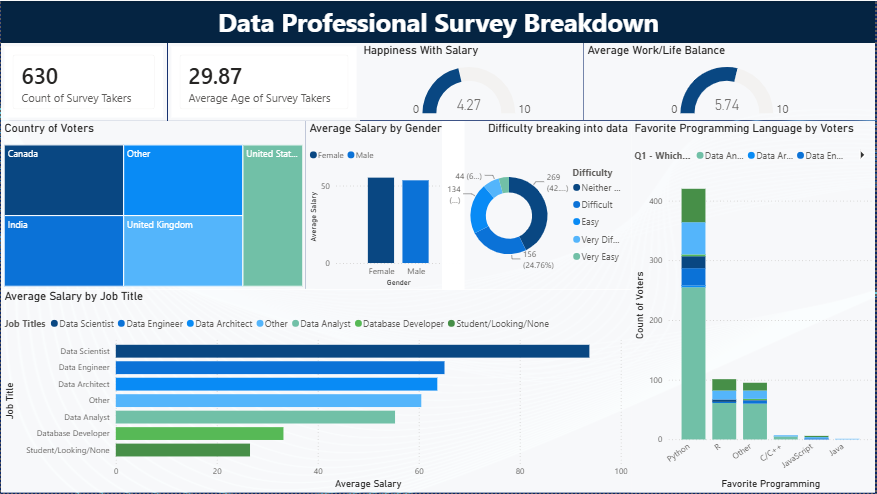

What the dashboard file says about the page in this screenshot:
{"tool":"powerbi","page":{"name":"Page 1","canvas":[1280,720],"ordinal":0},"visuals":[{"type":"textbox","box":[0,0,1280,62.1],"z":0},{"type":"cardVisual","fields":{"Data":["CountNonNull(Data Professional Survey.Unique ID)"]},"box":[0,61.5,242.9,114.1],"z":1000},{"type":"cardVisual","fields":{"Data":["Avg(Data Professional Survey.Q10 - Current Age)"]},"box":[244.3,61.4,281.4,114.3],"z":2000},{"type":"barChart","title":"Average Salary by Job Title","fields":{"Category":["Data Professional Survey.Q1 - Which Title Best Fits your Current Role?.1"],"Series":["Data Professional Survey.Q1 - Which Title Best Fits your Current Role?.1"],"Y":["Avg(Data Professional Survey.Average Salary)"]},"box":[0,421.8,922,297.5],"z":3000},{"type":"columnChart","title":"Favorite Programming Language by Voters ","fields":{"Category":["Data Professional Survey.Q5 - Favorite Programming Language.1"],"Series":["Data Professional Survey.Q1 - Which Title Best Fits your Current Role?.1"],"Y":["CountNonNull(Data Professional Survey.Unique ID)"]},"box":[922,174.9,358,544.4],"z":4000},{"type":"treemap","title":"Country of Voters","fields":{"Group":["Data Professional Survey.Q11 - Which Country do you live in?.1"],"Values":["Count(Data Professional Survey.Q11 - Which Country do you live in?.1)"]},"box":[0,174.9,446.3,246.8],"z":5000},{"type":"gauge","title":"Average Work/Life Balance","fields":{"MaxValue":["Max(Data Professional Survey.Q6 - How Happy are you in your Current Position with the following? (Work/Life Balance))2"],"MinValue":["Min(Data Professional Survey.Q6 - How Happy are you in your Current Position with the following? (Work/Life Balance))1"],"Y":["Avg(Data Professional Survey.Q6 - How Happy are you in your Current Position with the following? (Work/Life Balance))"]},"box":[853.3,62.1,426.7,112.8],"z":6000},{"type":"gauge","title":"Happiness With Salary","fields":{"MaxValue":["Max(Data Professional Survey.Q6 - How Happy are you in your Current Position with the following? (Salary))"],"MinValue":["Min(Data Professional Survey.Q6 - How Happy are you in your Current Position with the following? (Salary))"],"Y":["Avg(Data Professional Survey.Q6 - How Happy are you in your Current Position with the following? (Salary))"]},"box":[525.7,61.4,327.1,112.9],"z":7000},{"type":"columnChart","title":"Average Salary by Gender","fields":{"Category":["Data Professional Survey.Q9 - Male/Female?"],"Series":["Data Professional Survey.Q9 - Male/Female?"],"Y":["Avg(Data Professional Survey.Average Salary)"]},"box":[446.3,174.9,232.1,246.8],"z":8000},{"type":"donutChart","title":"Difficulty breaking into data","fields":{"Category":["Data Professional Survey.Q7 - How difficult was it for you to break into Data?"],"Y":["CountNonNull(Data Professional Survey.Q7 - How difficult was it for you to break into Data?)"]},"box":[645,175,277,247],"z":9000}]}

Visuals, with their boxes in screenshot pixels (x1, y1, x2, y2), scaled from the page's 1280x720 canvas onto the 877x494 screenshot:
textbox: detection(0, 0, 876, 43)
cardVisual - CountNonNull(Data Professional Survey.Unique ID): detection(0, 42, 166, 120)
cardVisual - Avg(Data Professional Survey.Q10 - Current Age): detection(167, 42, 360, 121)
"Average Salary by Job Title" barChart: detection(0, 289, 632, 493)
"Favorite Programming Language by Voters " columnChart: detection(632, 120, 876, 493)
"Country of Voters" treemap: detection(0, 120, 306, 289)
"Average Work/Life Balance" gauge: detection(585, 43, 876, 120)
"Happiness With Salary" gauge: detection(360, 42, 584, 120)
"Average Salary by Gender" columnChart: detection(306, 120, 465, 289)
"Difficulty breaking into data" donutChart: detection(442, 120, 632, 290)
